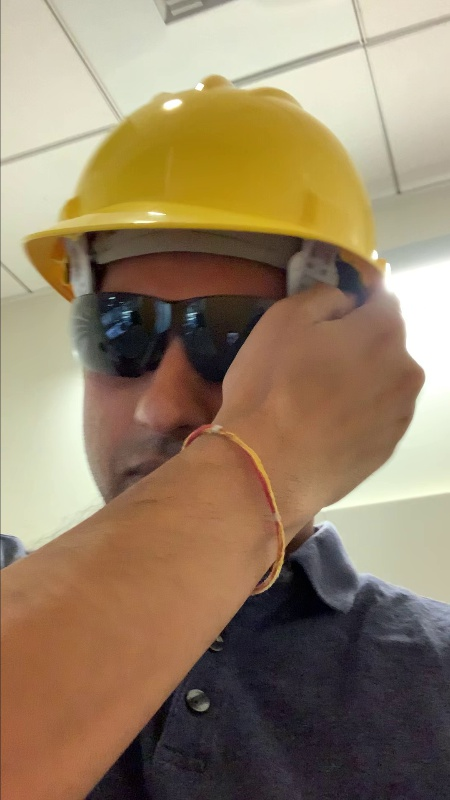glasses: (67, 287, 379, 391)
helmet: (20, 71, 409, 298)
